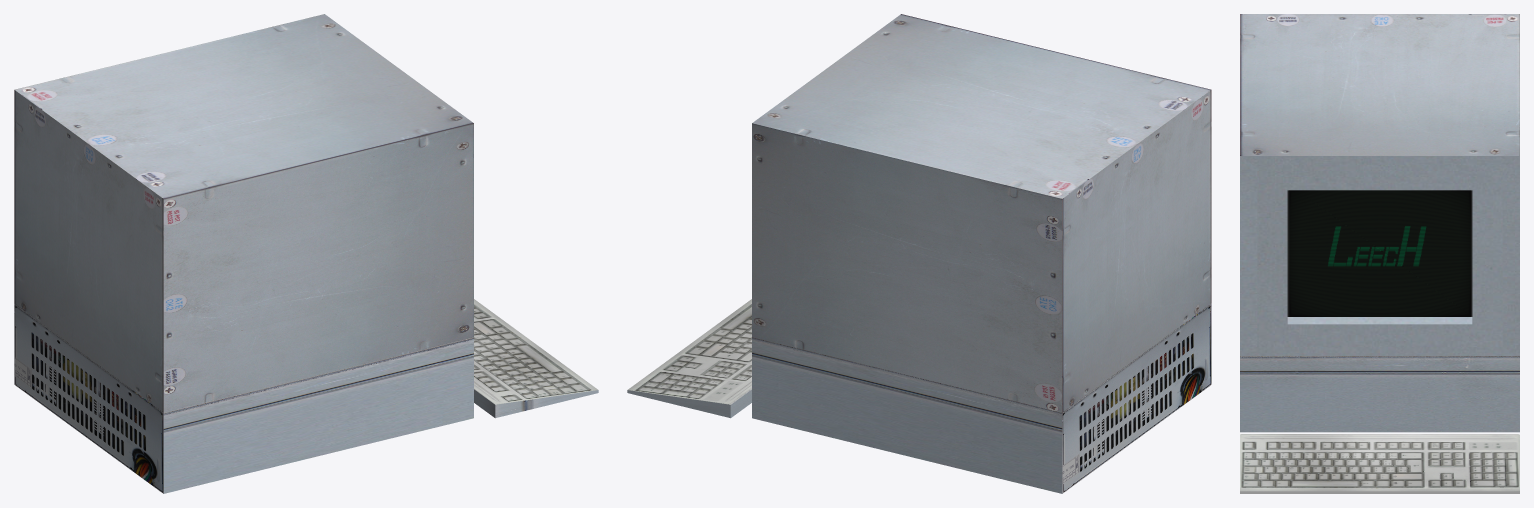
The model's file is Computer.glb.
3 renders of one model, left to right at view 1: azimuth 30°, elevation 25°; view 2: azimuth 150°, elevation 25°; view 3: azimuth 270°, elevation 25°, orthographic. The views are drawn at different scales.
Visible parts, largest first — view 1: Screen, Base, Keyboard; view 2: Screen, Base, Keyboard; view 3: Screen, Base, Keyboard.
Boxes of the visible parts, x1,y1,x2,y2 form: Screen: (14, 14, 473, 415); Base: (14, 304, 473, 493); Keyboard: (474, 299, 598, 418); Screen: (752, 14, 1211, 415); Base: (752, 304, 1211, 493); Keyboard: (627, 299, 751, 418); Screen: (1240, 14, 1519, 358); Base: (1240, 356, 1519, 432); Keyboard: (1240, 434, 1519, 493).
Bounding box in the file's own units: 16.82 × 11.09 × 10.
15 materials, 13 textured.
